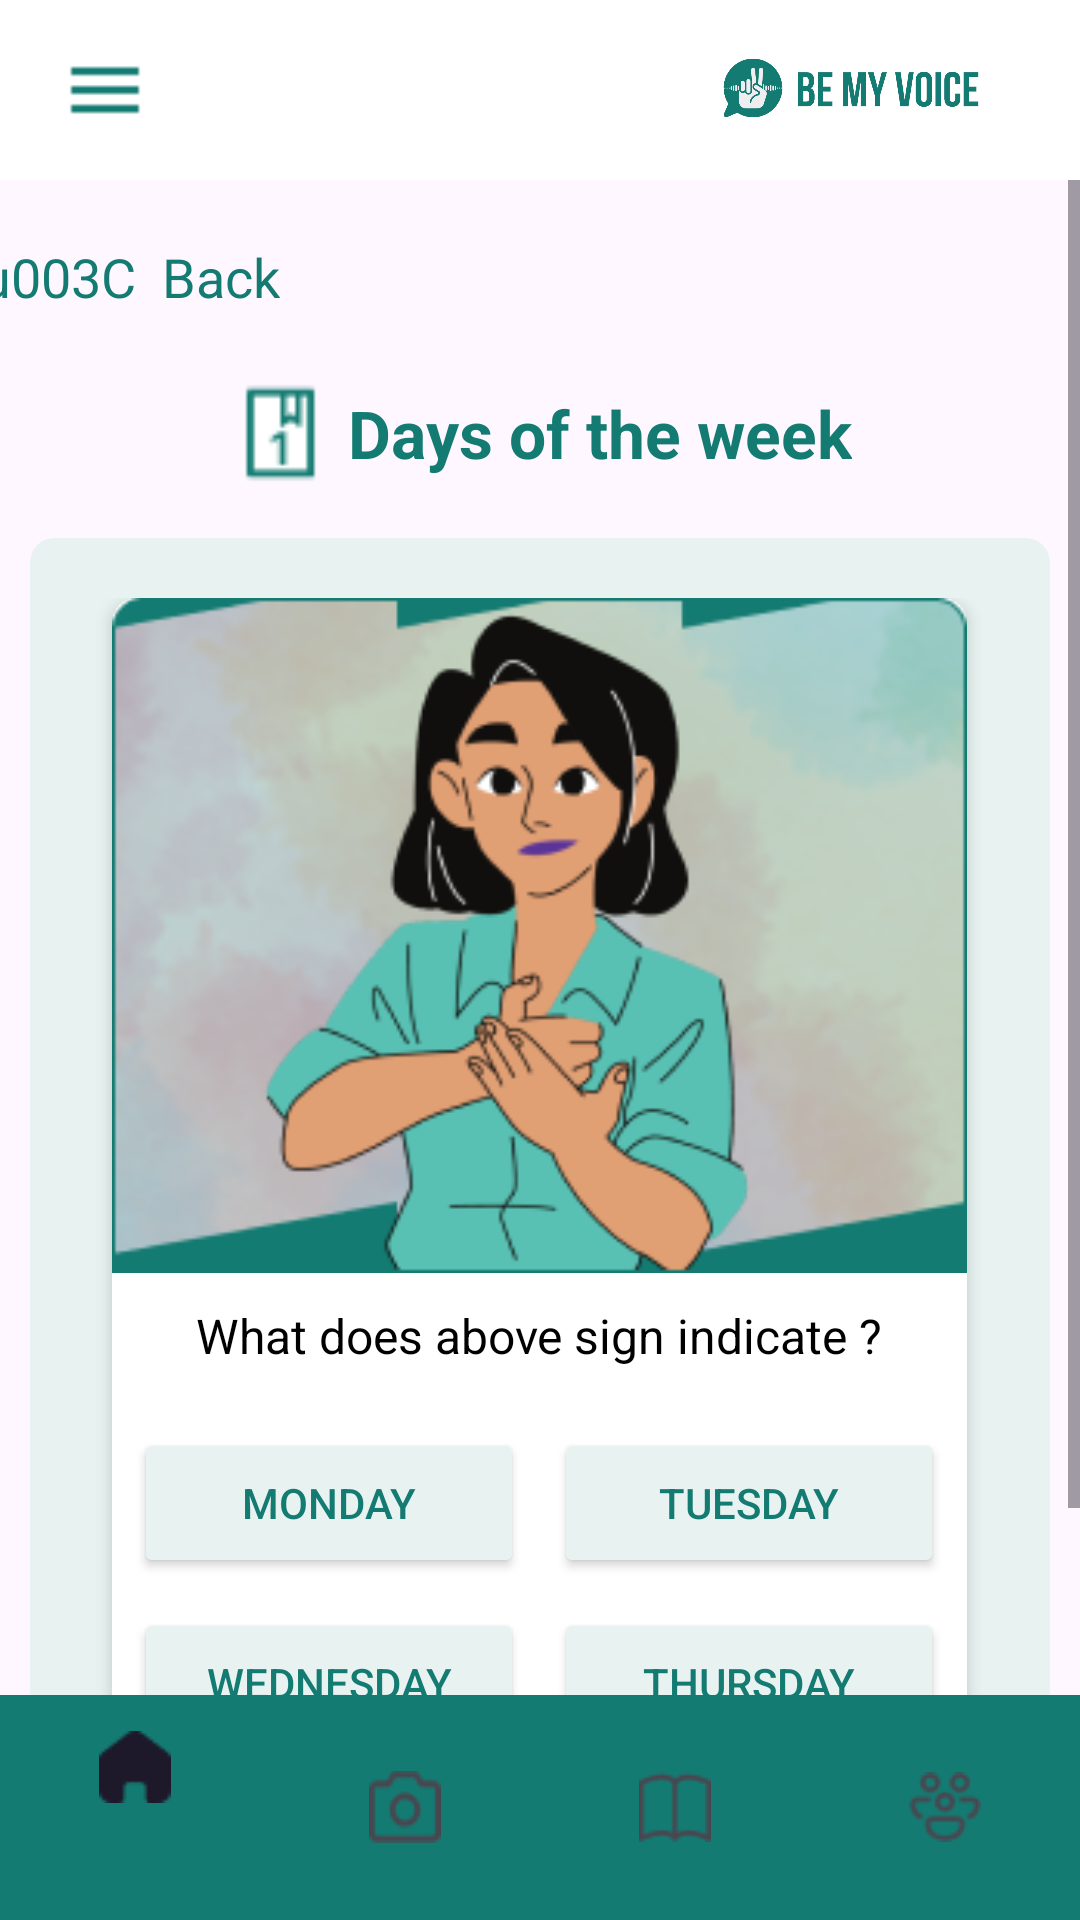

Named icons in this screenshot (1080px×1920px) and their centers, (x=x, y=y):
left drawer: (x=105, y=90)
